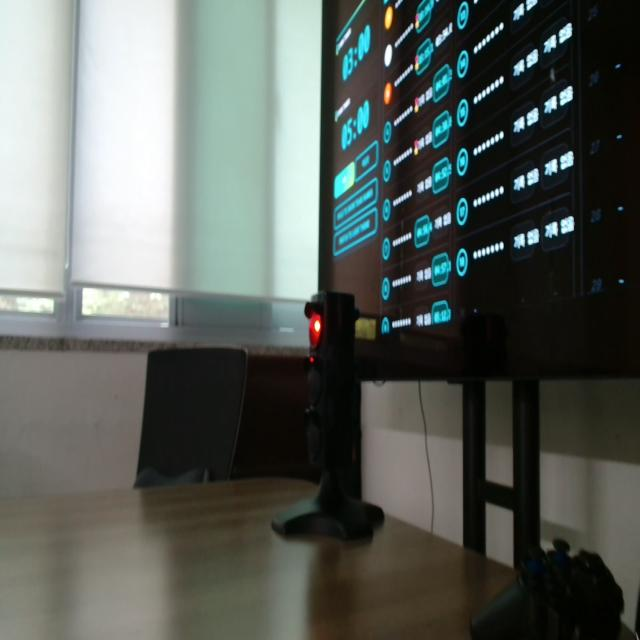red_light: (310, 313, 321, 348)
